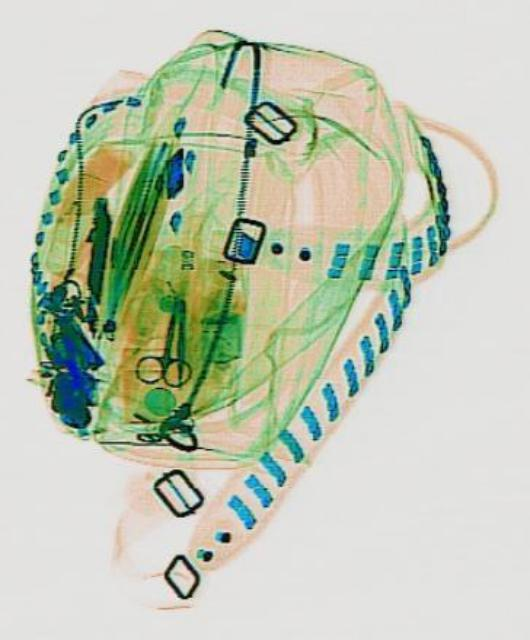Scissors: (132, 305, 199, 389)
